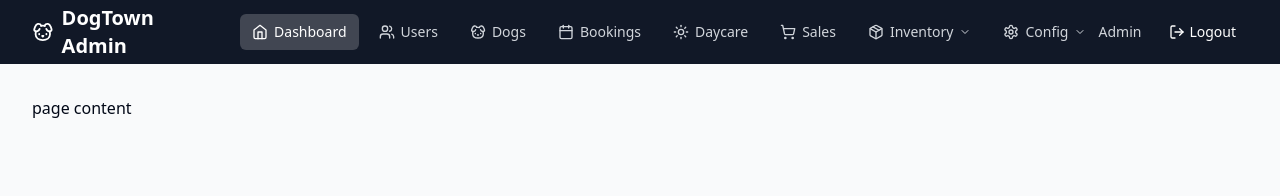
Test: AdminLayout — Inventory dropdown › opens when the Inventory button is clicked
The image size is (1280, 196).
Expected: the link "products" is not shown
What coordinates should you click on to do the following:
click the button "Inventory"
I would click on:
 (920, 32)
Its box is x1=856 y1=14 x2=984 y2=50.
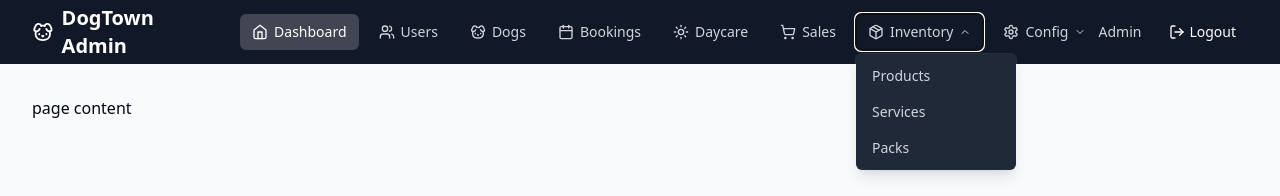
Result: the link "Products" is shown at x1=872 y1=66 x2=930 y2=85
Result: the link "Services" is shown at x1=872 y1=102 x2=925 y2=121
